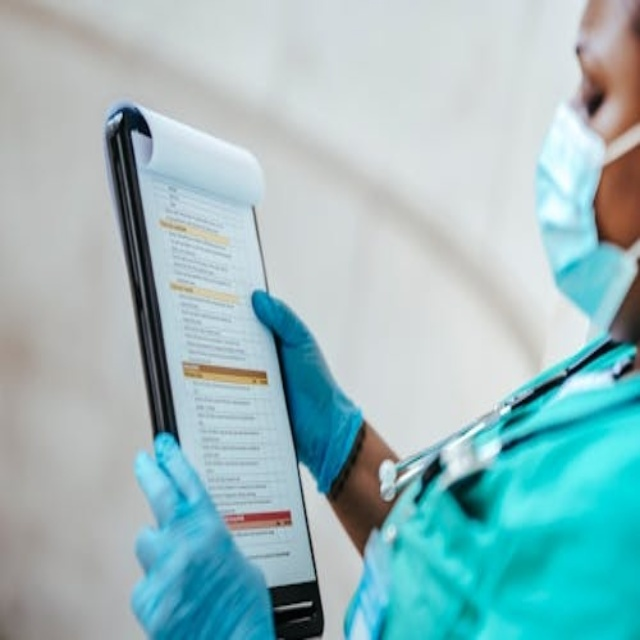Guantes: (123, 427, 278, 634), (247, 271, 367, 492)
Mascara: (536, 99, 639, 333)
Sin_gafas: (561, 33, 630, 111)
